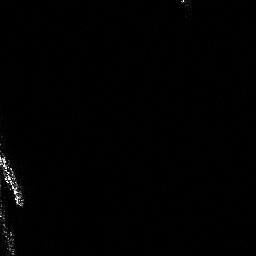ship: (1, 150, 26, 208)
